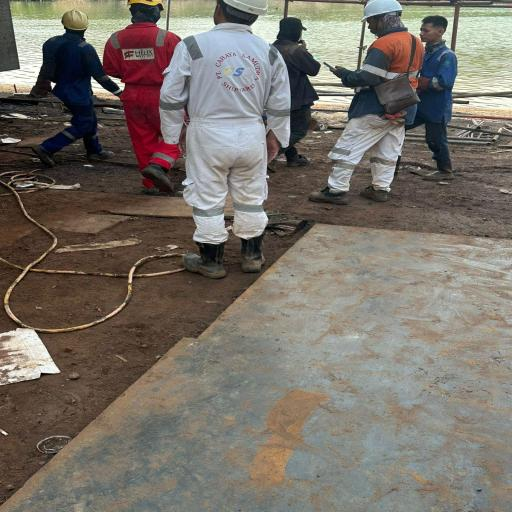safety_shoe: (179, 240, 230, 280), (239, 231, 270, 272), (144, 162, 179, 196), (309, 186, 349, 204), (29, 145, 60, 168), (81, 145, 120, 161), (358, 185, 388, 202), (286, 153, 314, 169), (422, 170, 456, 182), (142, 186, 162, 197)
